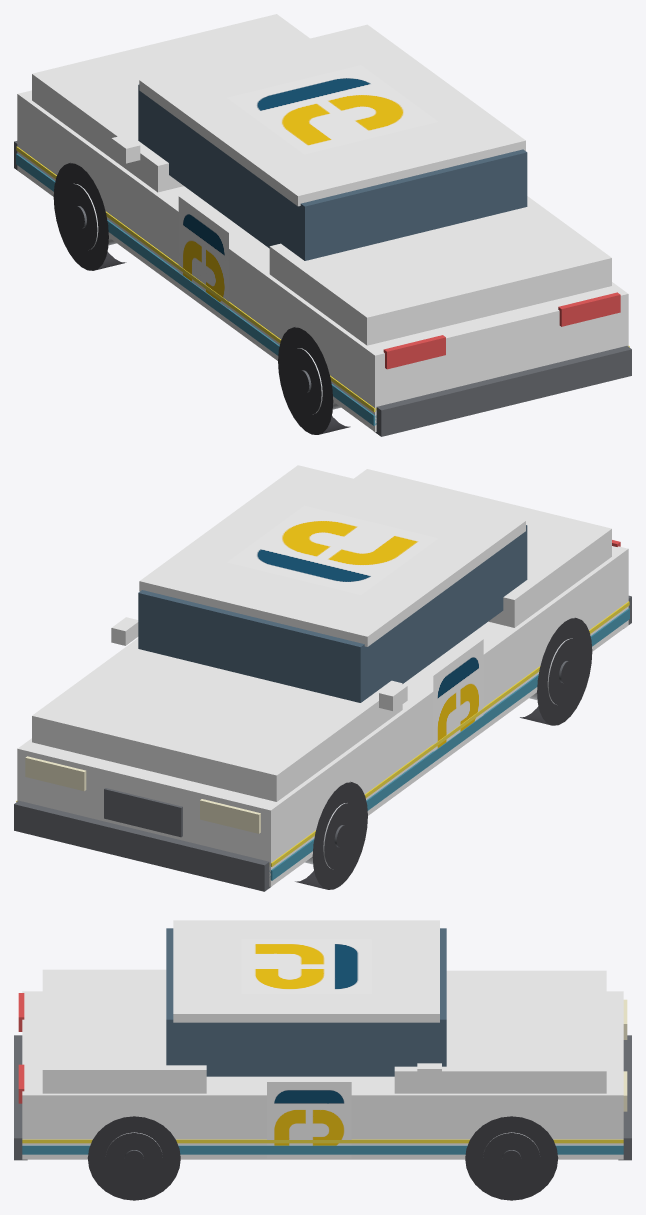
Rendered from fs_car.glb.
The picture shows the model from 3 angles, top to bottom: view 1: azimuth 30°, elevation 25°; view 2: azimuth 150°, elevation 25°; view 3: azimuth 270°, elevation 25°; orthographic projection. The views are drawn at different scales.
Visible parts, largest first — view 1: vehicle; view 2: vehicle; view 3: vehicle.
Part boxes in pixels (bbox=[...]): vehicle: bbox=[14, 14, 631, 436]; vehicle: bbox=[14, 465, 631, 891]; vehicle: bbox=[14, 920, 631, 1200].
Size of the model in its own units: 2 by 1.46 by 4.52.
Materials: 10 (1 with a texture image).
